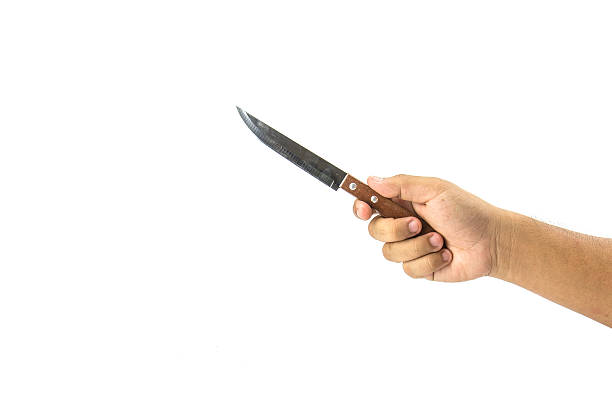knife: (232, 105, 416, 224)
